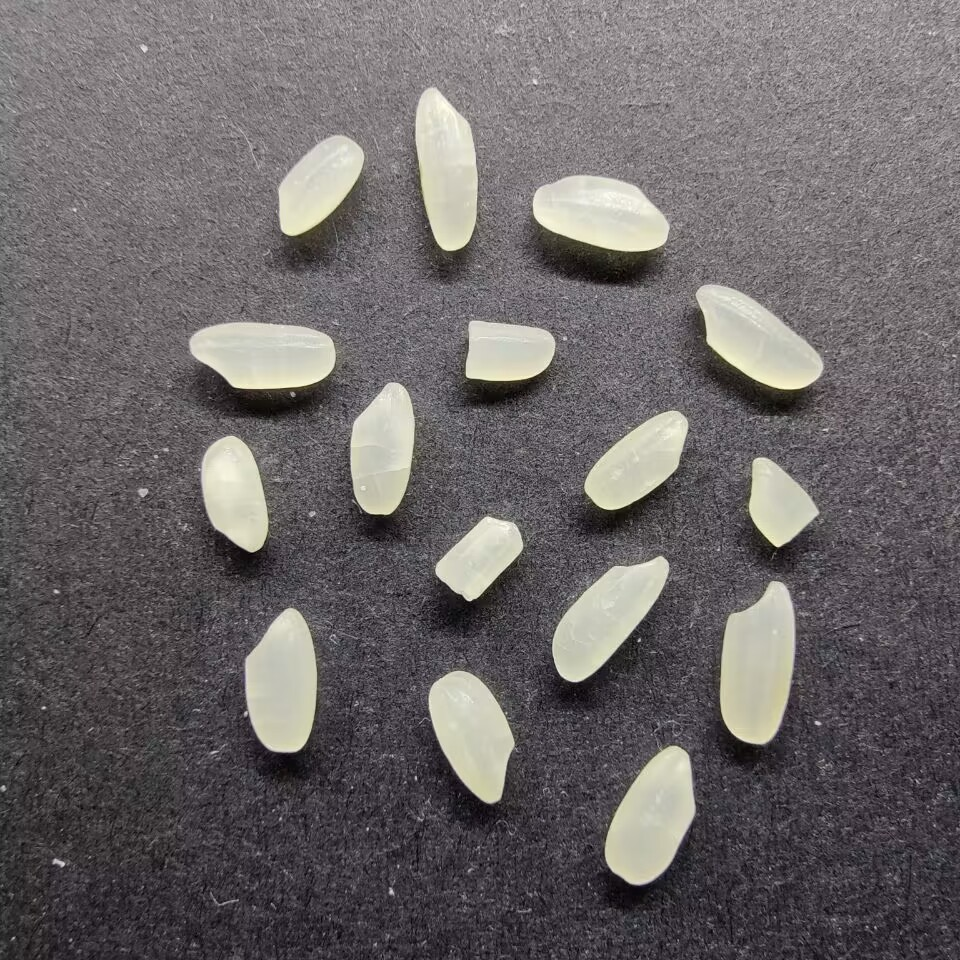broken: (433, 512, 524, 604), (747, 456, 820, 549), (459, 319, 557, 383)
rice: (550, 553, 669, 684), (693, 279, 826, 392), (602, 743, 696, 887), (718, 580, 796, 746), (426, 667, 516, 807), (411, 83, 480, 252), (241, 607, 319, 753), (531, 172, 671, 253), (583, 408, 689, 512), (186, 320, 336, 390), (275, 132, 366, 237), (347, 381, 414, 517), (200, 433, 269, 554)
